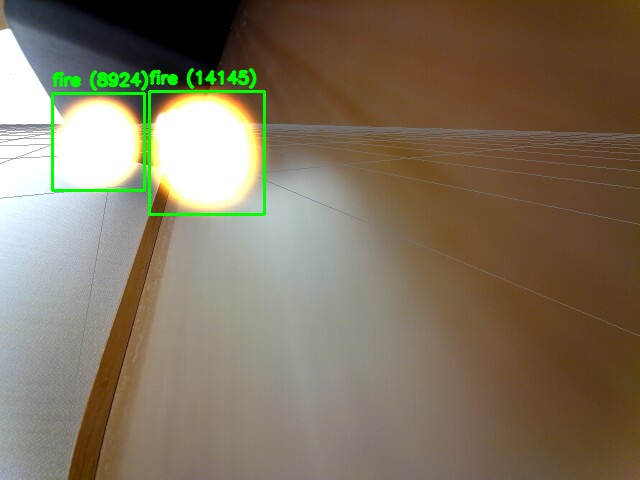fire: (149, 91, 264, 214), (52, 93, 144, 190)
